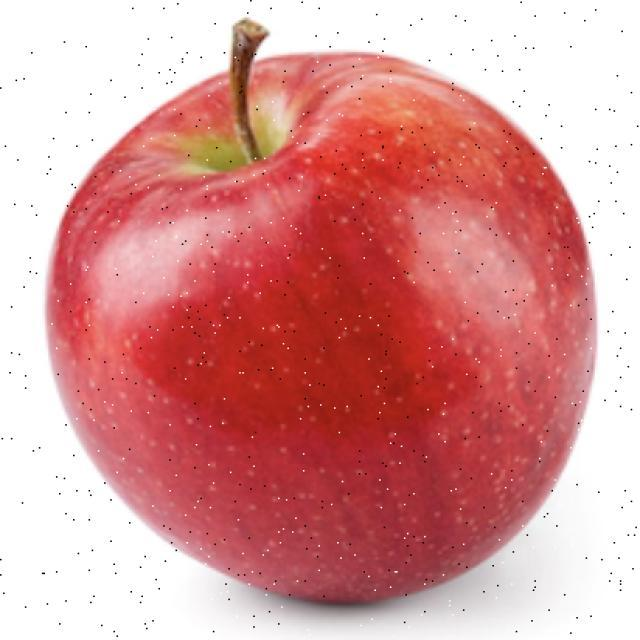Apple: (44, 17, 598, 606)
